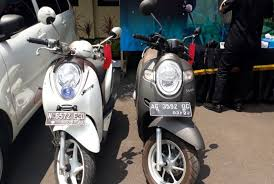plate: (150, 102, 192, 117), (46, 111, 87, 126)
